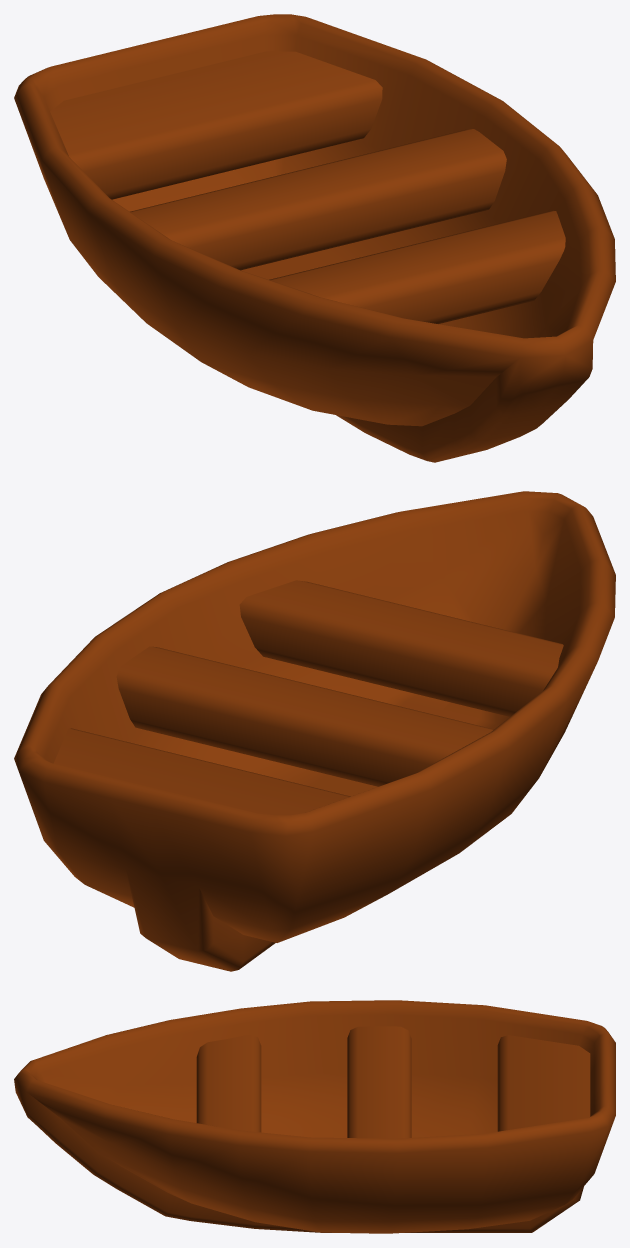
The model's file is LastLuna_Model_Object_Wooden_Boat.fbx.
The picture shows the model from 3 angles, top to bottom: view 1: azimuth 30°, elevation 25°; view 2: azimuth 150°, elevation 25°; view 3: azimuth 270°, elevation 25°; orthographic projection. The views are drawn at different scales.
Parts seen in each view (by area): view 1: Wooden_Boat001; view 2: Wooden_Boat001; view 3: Wooden_Boat001.
Part boxes in pixels (x1,y1,x2,y2): Wooden_Boat001: (14, 14, 615, 462); Wooden_Boat001: (14, 491, 615, 971); Wooden_Boat001: (14, 1000, 615, 1233).
Size of the model in its own units: 408 by 198 by 700.
